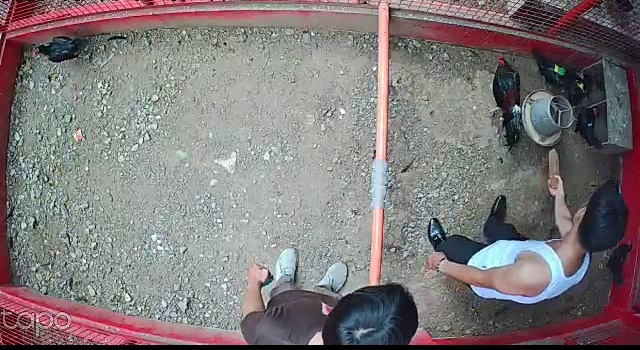Chicken: (529, 45, 585, 96), (554, 104, 607, 152), (594, 238, 632, 292), (557, 72, 602, 109)
Rooster: (485, 52, 525, 149)
Saddle_Color_Blue: (585, 120, 593, 129)
Saddle_Color_Yellow: (575, 80, 587, 90)
Saddle_Color_YellowGreen: (552, 61, 569, 78)
